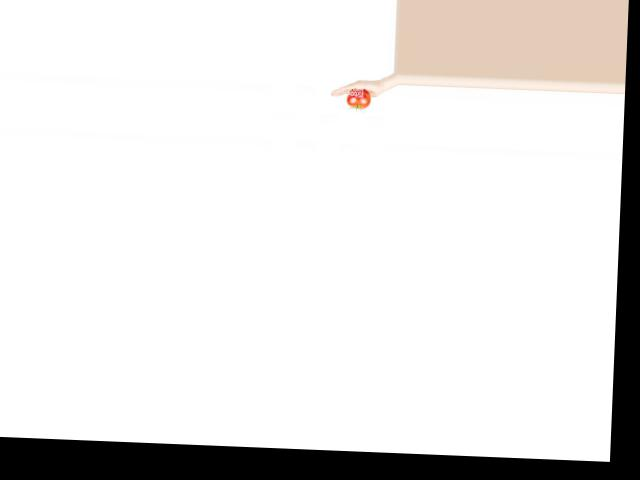tomato: (346, 88, 370, 109)
